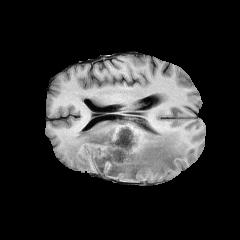glioma: (63, 120, 187, 179)
